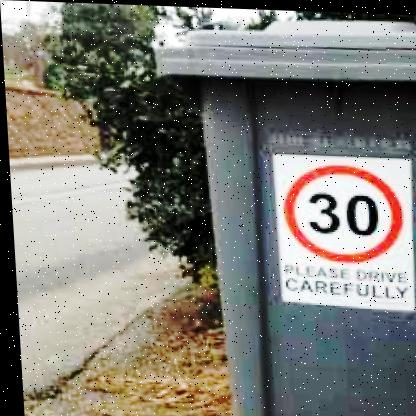Speed Limit -30-: (272, 153, 409, 270)
